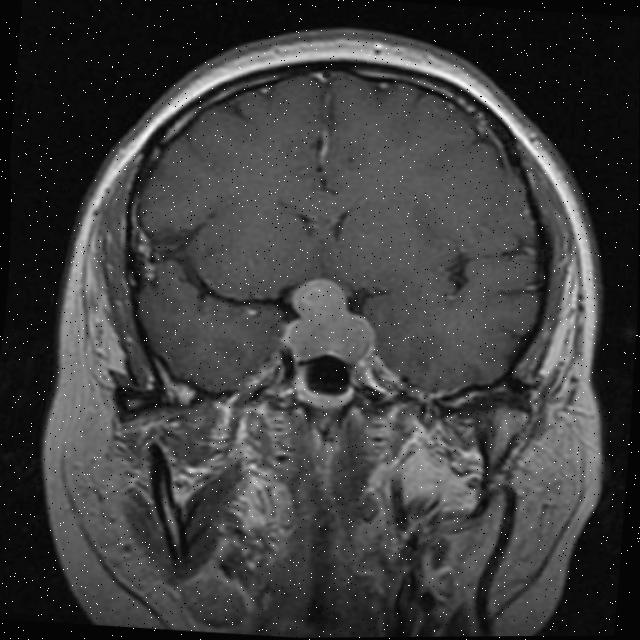Pituitary: (284, 275, 378, 367)
